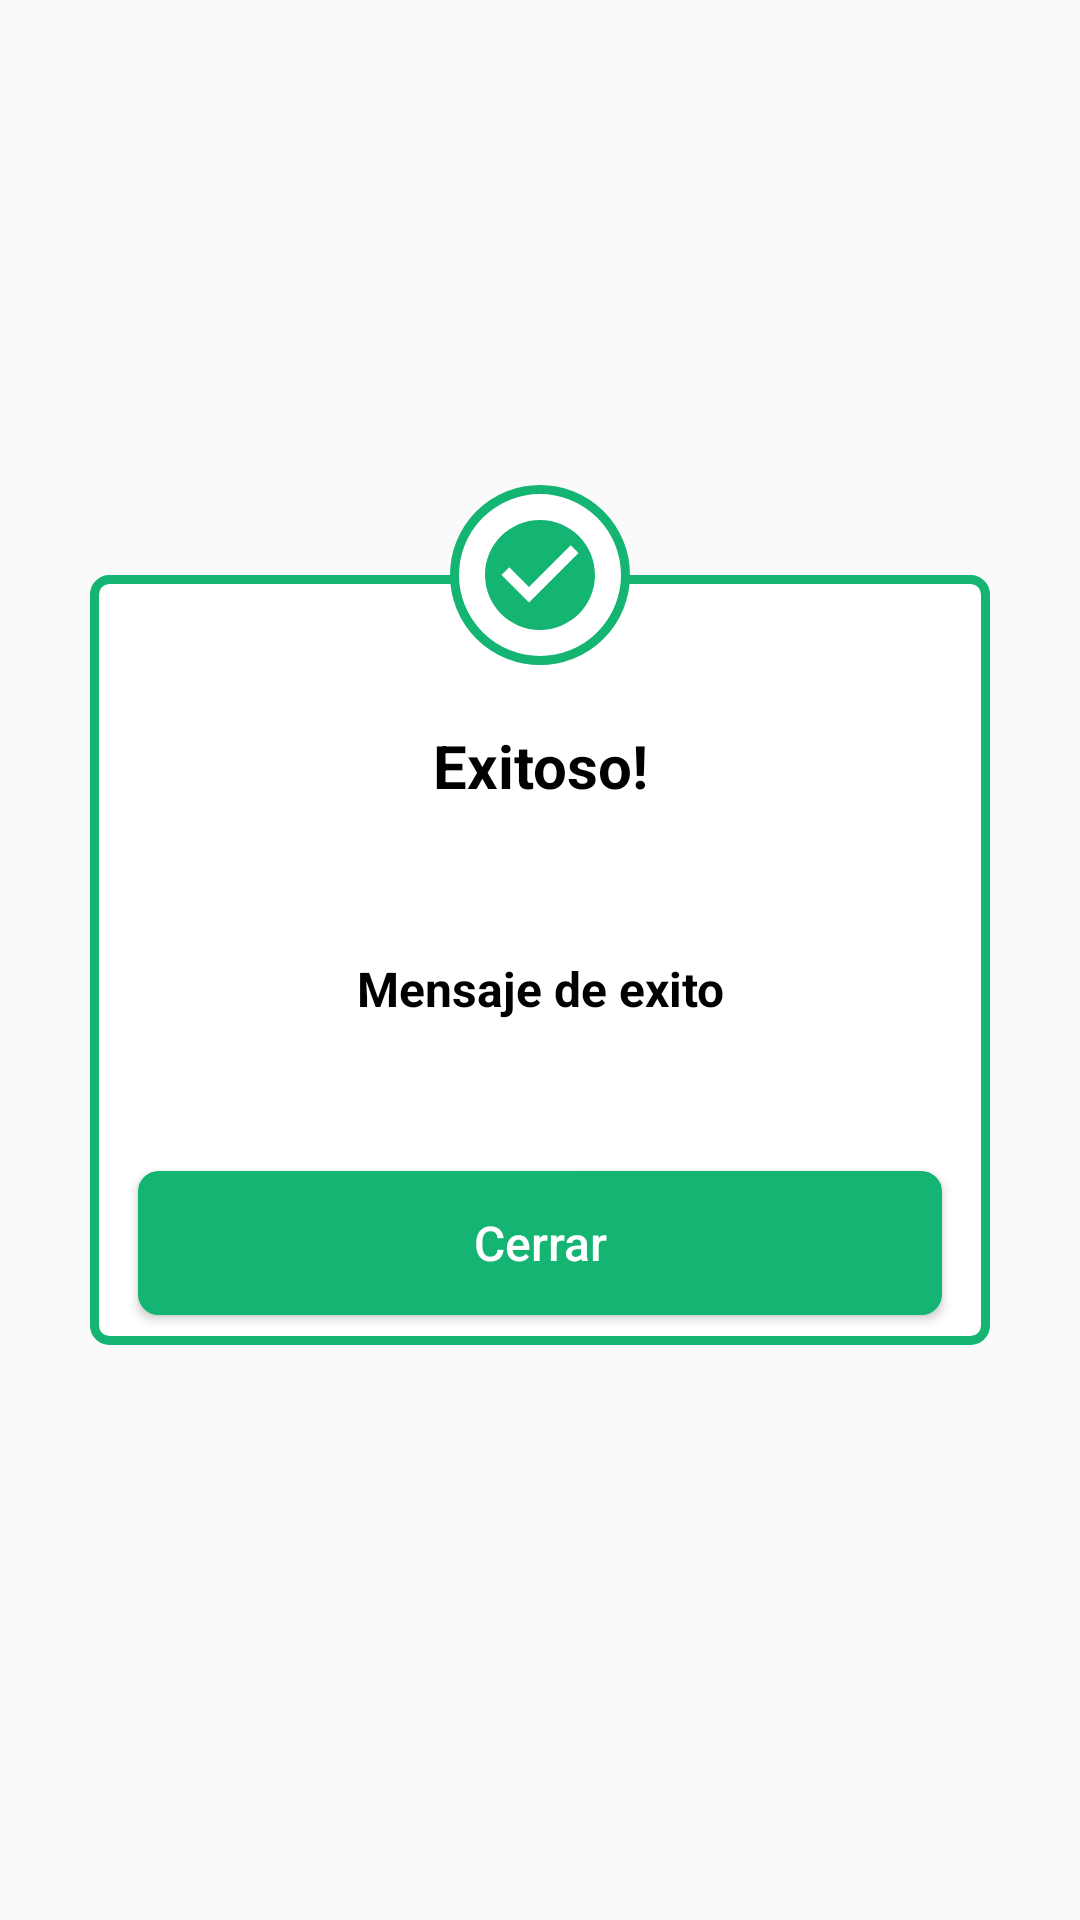

Locate icon controls on the screen. Image size 1080px×1920px, boxes as (x1, y1, x2, y2).
check: (485, 520, 595, 630)
